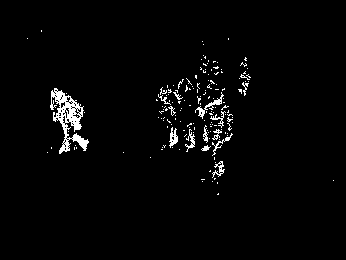person: (196, 89, 234, 181), (48, 86, 89, 155), (154, 84, 184, 148), (175, 77, 198, 151)
